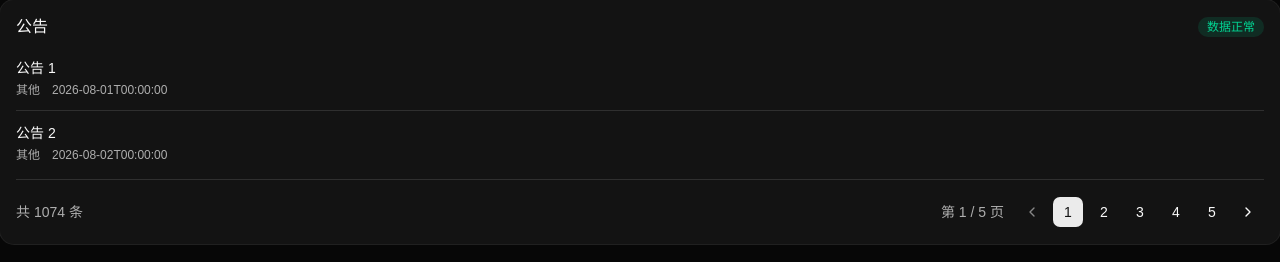
Test: AnnounceSection 公告分区分页（M12 T95） › 翻页中途巨潮降级：保留当前内容，切降级文案（不视为错误）
Click the button with test id "announce-pagination-page-2" at (1104, 212), box [1088,196,1120,228]
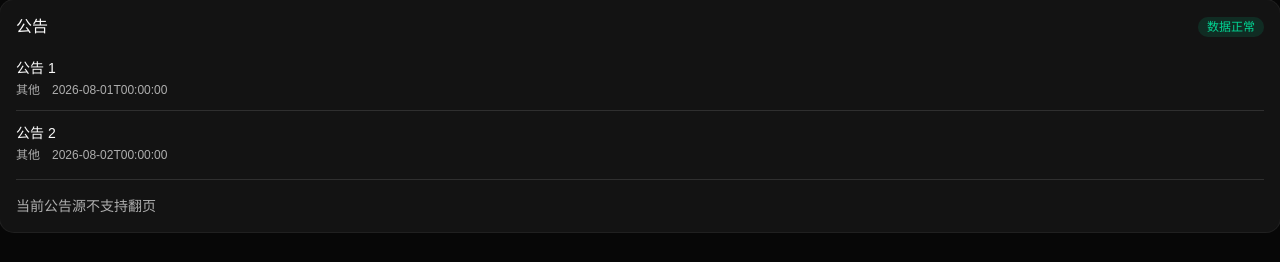
Expected: the link "公告 1" is shown, [16,60,56,76]
Result: the text "当前公告源不支持翻页" is shown at [16,179,1264,216]
